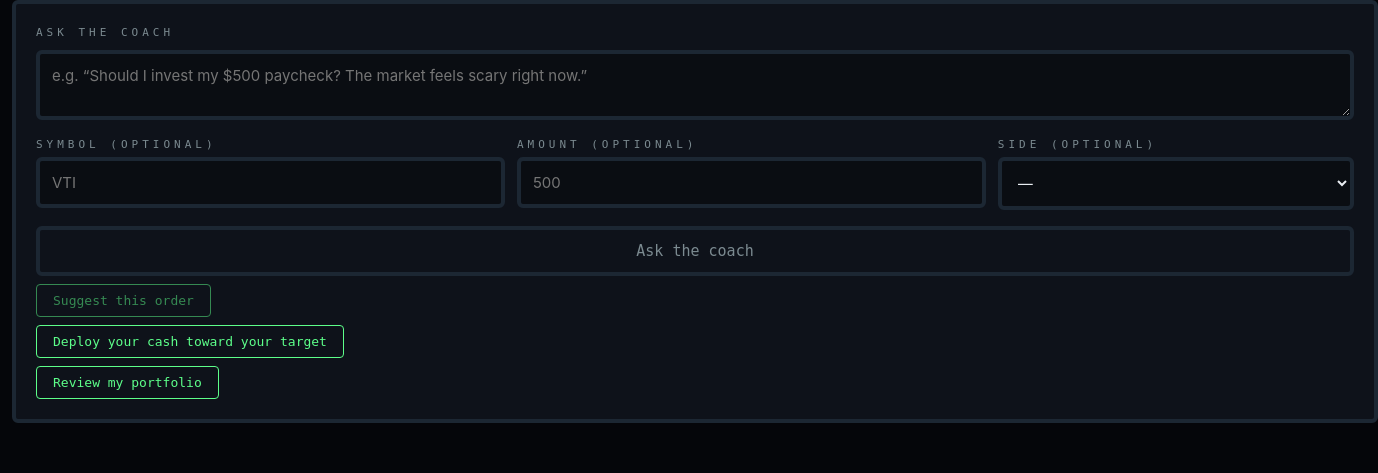
Test case: CoachConsult — review-my-portfolio affordance (Story 10.4) › routes to sign-in on a 401
The width and height of the screenshot is (1378, 473).
Click the button with test id "coach-review-portfolio" at [127, 383], box [36, 366, 219, 399]
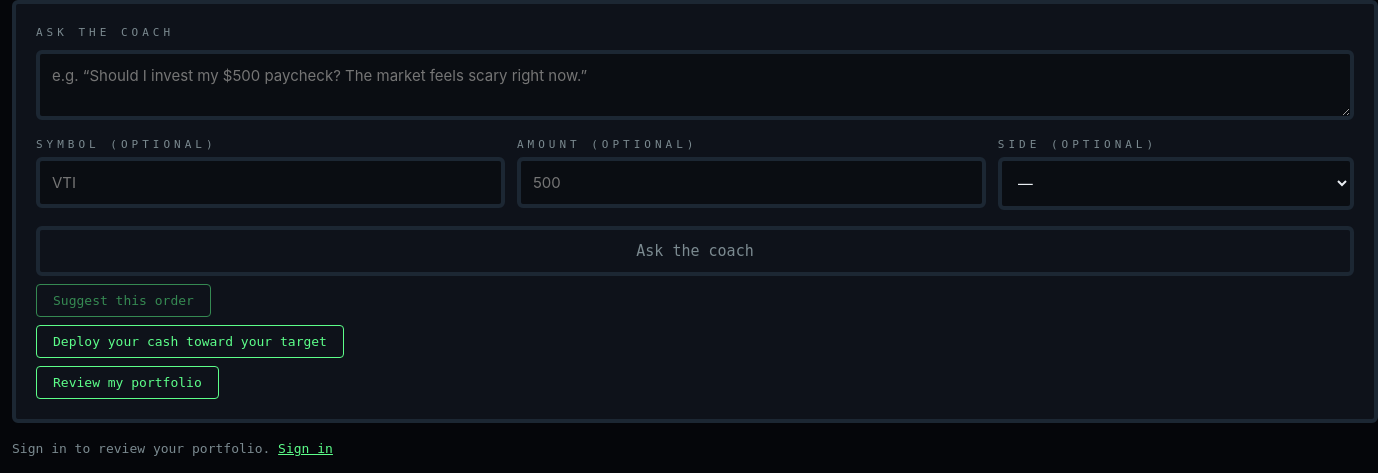
expect the message with test id "coach-review-signed-out" shows "Sign in": met, box [278, 441, 333, 456]
